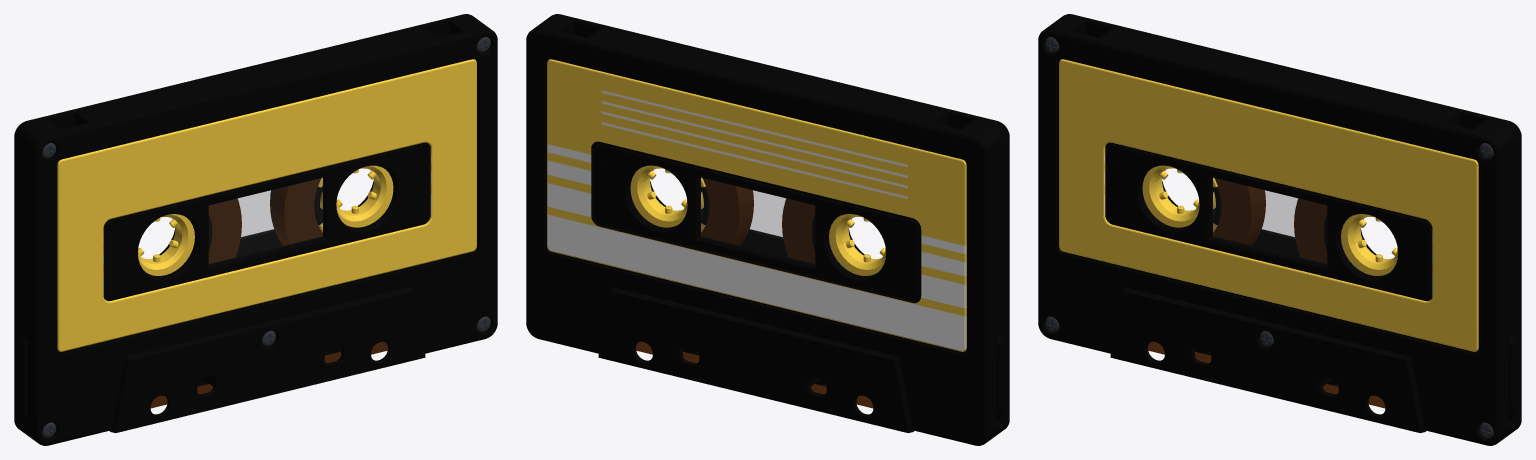
File: Cassette-02.glb
The picture shows the model from 3 angles, left to right: view 1: azimuth 30°, elevation 25°; view 2: azimuth 150°, elevation 25°; view 3: azimuth 330°, elevation 25°; orthographic projection.
Parts seen in each view (by area): view 1: AudioCasetteShell_High, AudioCasetteTape_High, AudioCasetteTape_High_Plastic_0.002, AudioCasetteTape_High_Plastic_0.001; view 2: AudioCasetteShell_High, AudioCasetteTape_High, AudioCasetteTape_High_Plastic_0.002, AudioCasetteTape_High_Plastic_0.001; view 3: AudioCasetteShell_High, AudioCasetteTape_High, AudioCasetteTape_High_Plastic_0.001, AudioCasetteTape_High_Plastic_0.002.
Part boxes in pixels (<box>): AudioCasetteShell_High: <box>14,14,497,445</box>; AudioCasetteTape_High: <box>208,178,322,263</box>; AudioCasetteTape_High_Plastic_0.002: <box>318,165,393,232</box>; AudioCasetteTape_High_Plastic_0.001: <box>138,214,194,275</box>; AudioCasetteShell_High: <box>526,14,1009,445</box>; AudioCasetteTape_High: <box>701,178,815,263</box>; AudioCasetteTape_High_Plastic_0.002: <box>630,165,705,232</box>; AudioCasetteTape_High_Plastic_0.001: <box>829,214,885,275</box>; AudioCasetteShell_High: <box>1038,14,1521,445</box>; AudioCasetteTape_High: <box>1213,178,1327,263</box>; AudioCasetteTape_High_Plastic_0.001: <box>1142,165,1217,232</box>; AudioCasetteTape_High_Plastic_0.002: <box>1341,214,1397,275</box>.
Size of the model in its own units: 0.1057 by 0.0664 by 0.0114.
Materials: 7 (1 with a texture image).
